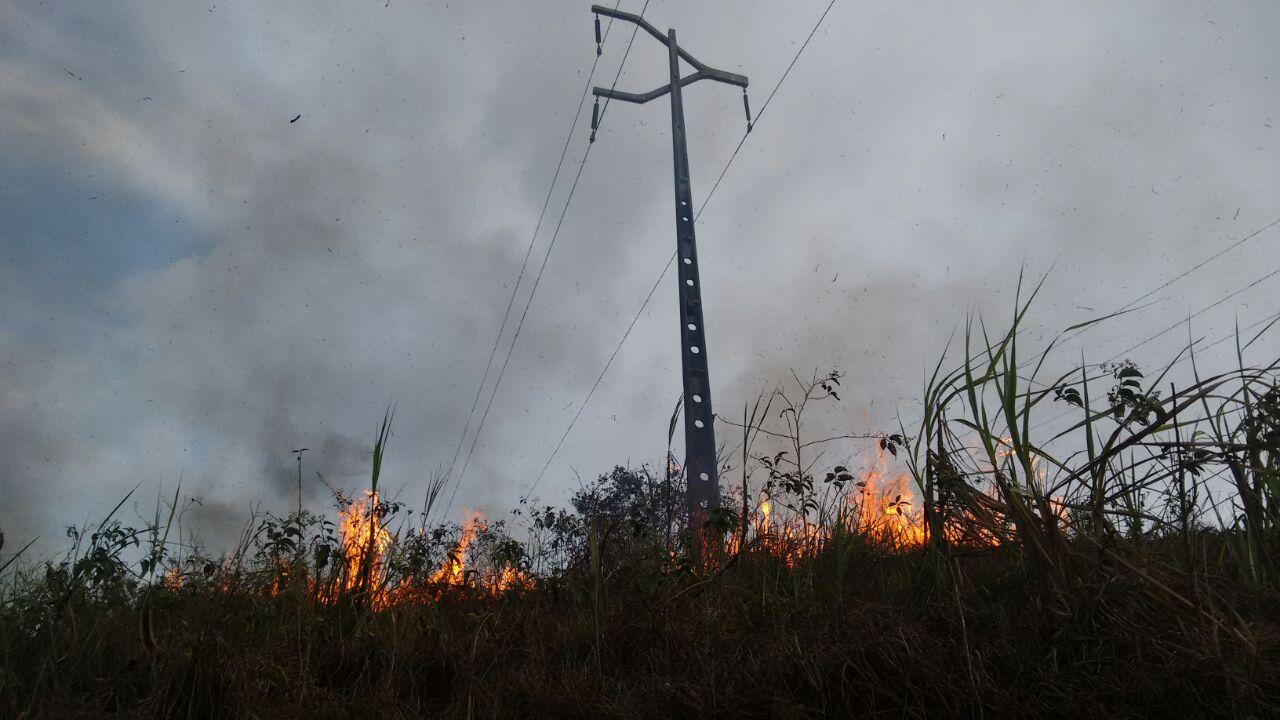fire: (846, 468, 931, 546), (342, 497, 390, 591), (434, 513, 488, 592)
